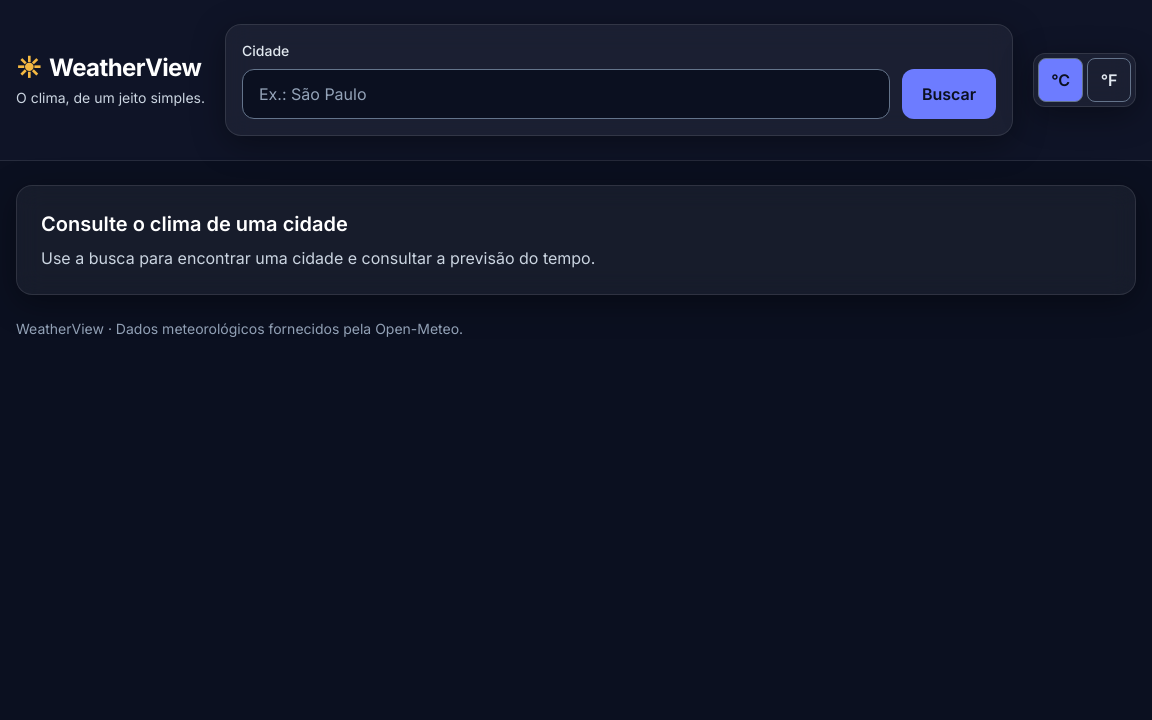
App › apresenta erro e ErrorState refaz a última operação
Type "São Paulo" into the search field labelled "Cidade". click: {"x": 566, "y": 94}
box: x1=242 y1=69 x2=890 y2=119
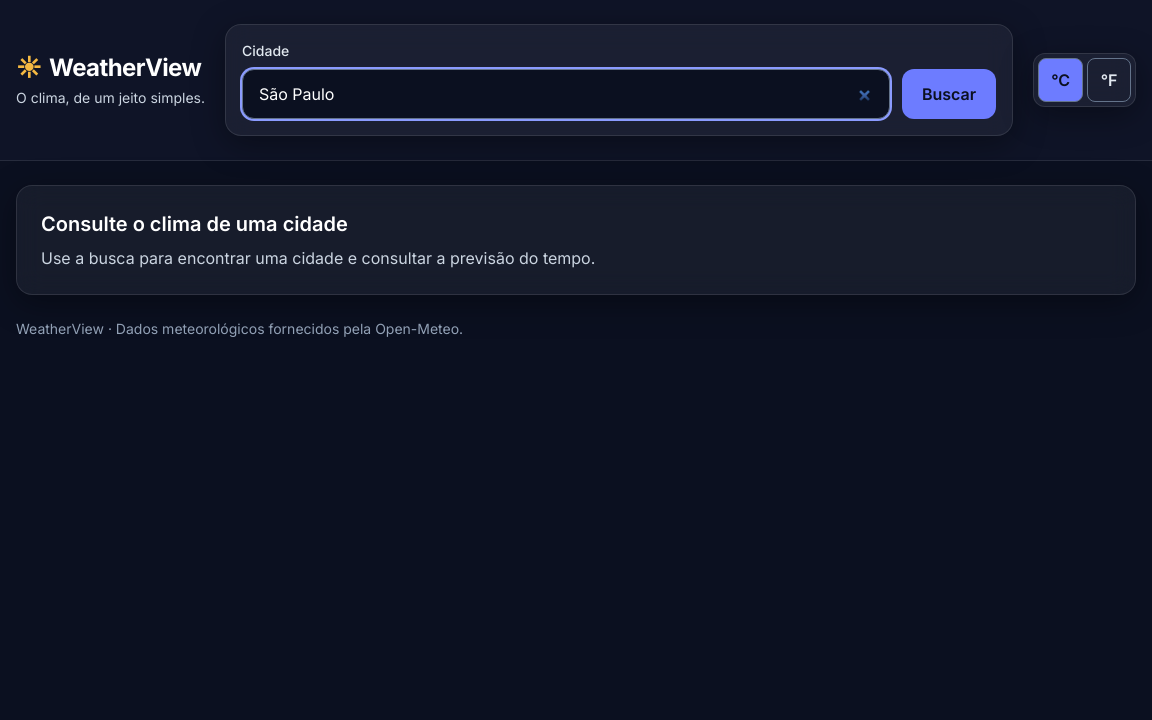
Press Enter
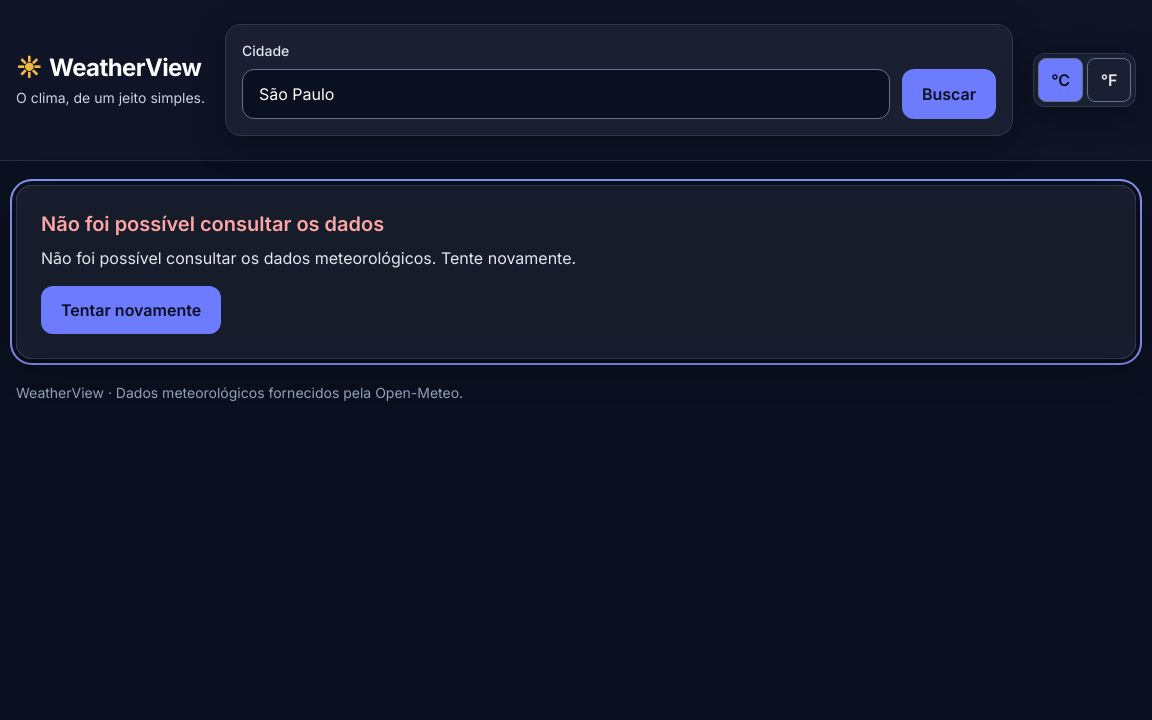
expect the message shows "Não foi possível consultar os dados meteorológicos.": met, box x1=41 y1=248 x2=576 y2=268
Click the button "Tentar novamente". click: {"x": 131, "y": 310}
box: x1=41 y1=286 x2=221 y2=334
(page scrolled)
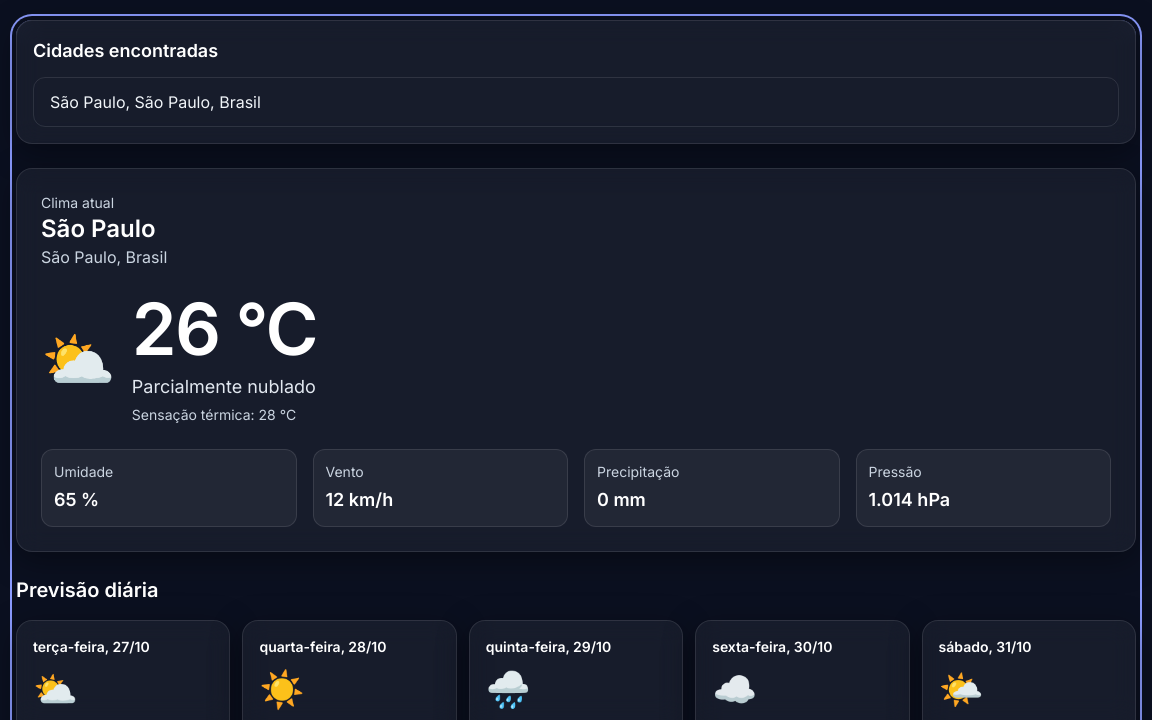
expect the element "São Paulo" is shown: met, box x1=16 y1=168 x2=1136 y2=552
expect the message is gone: met
